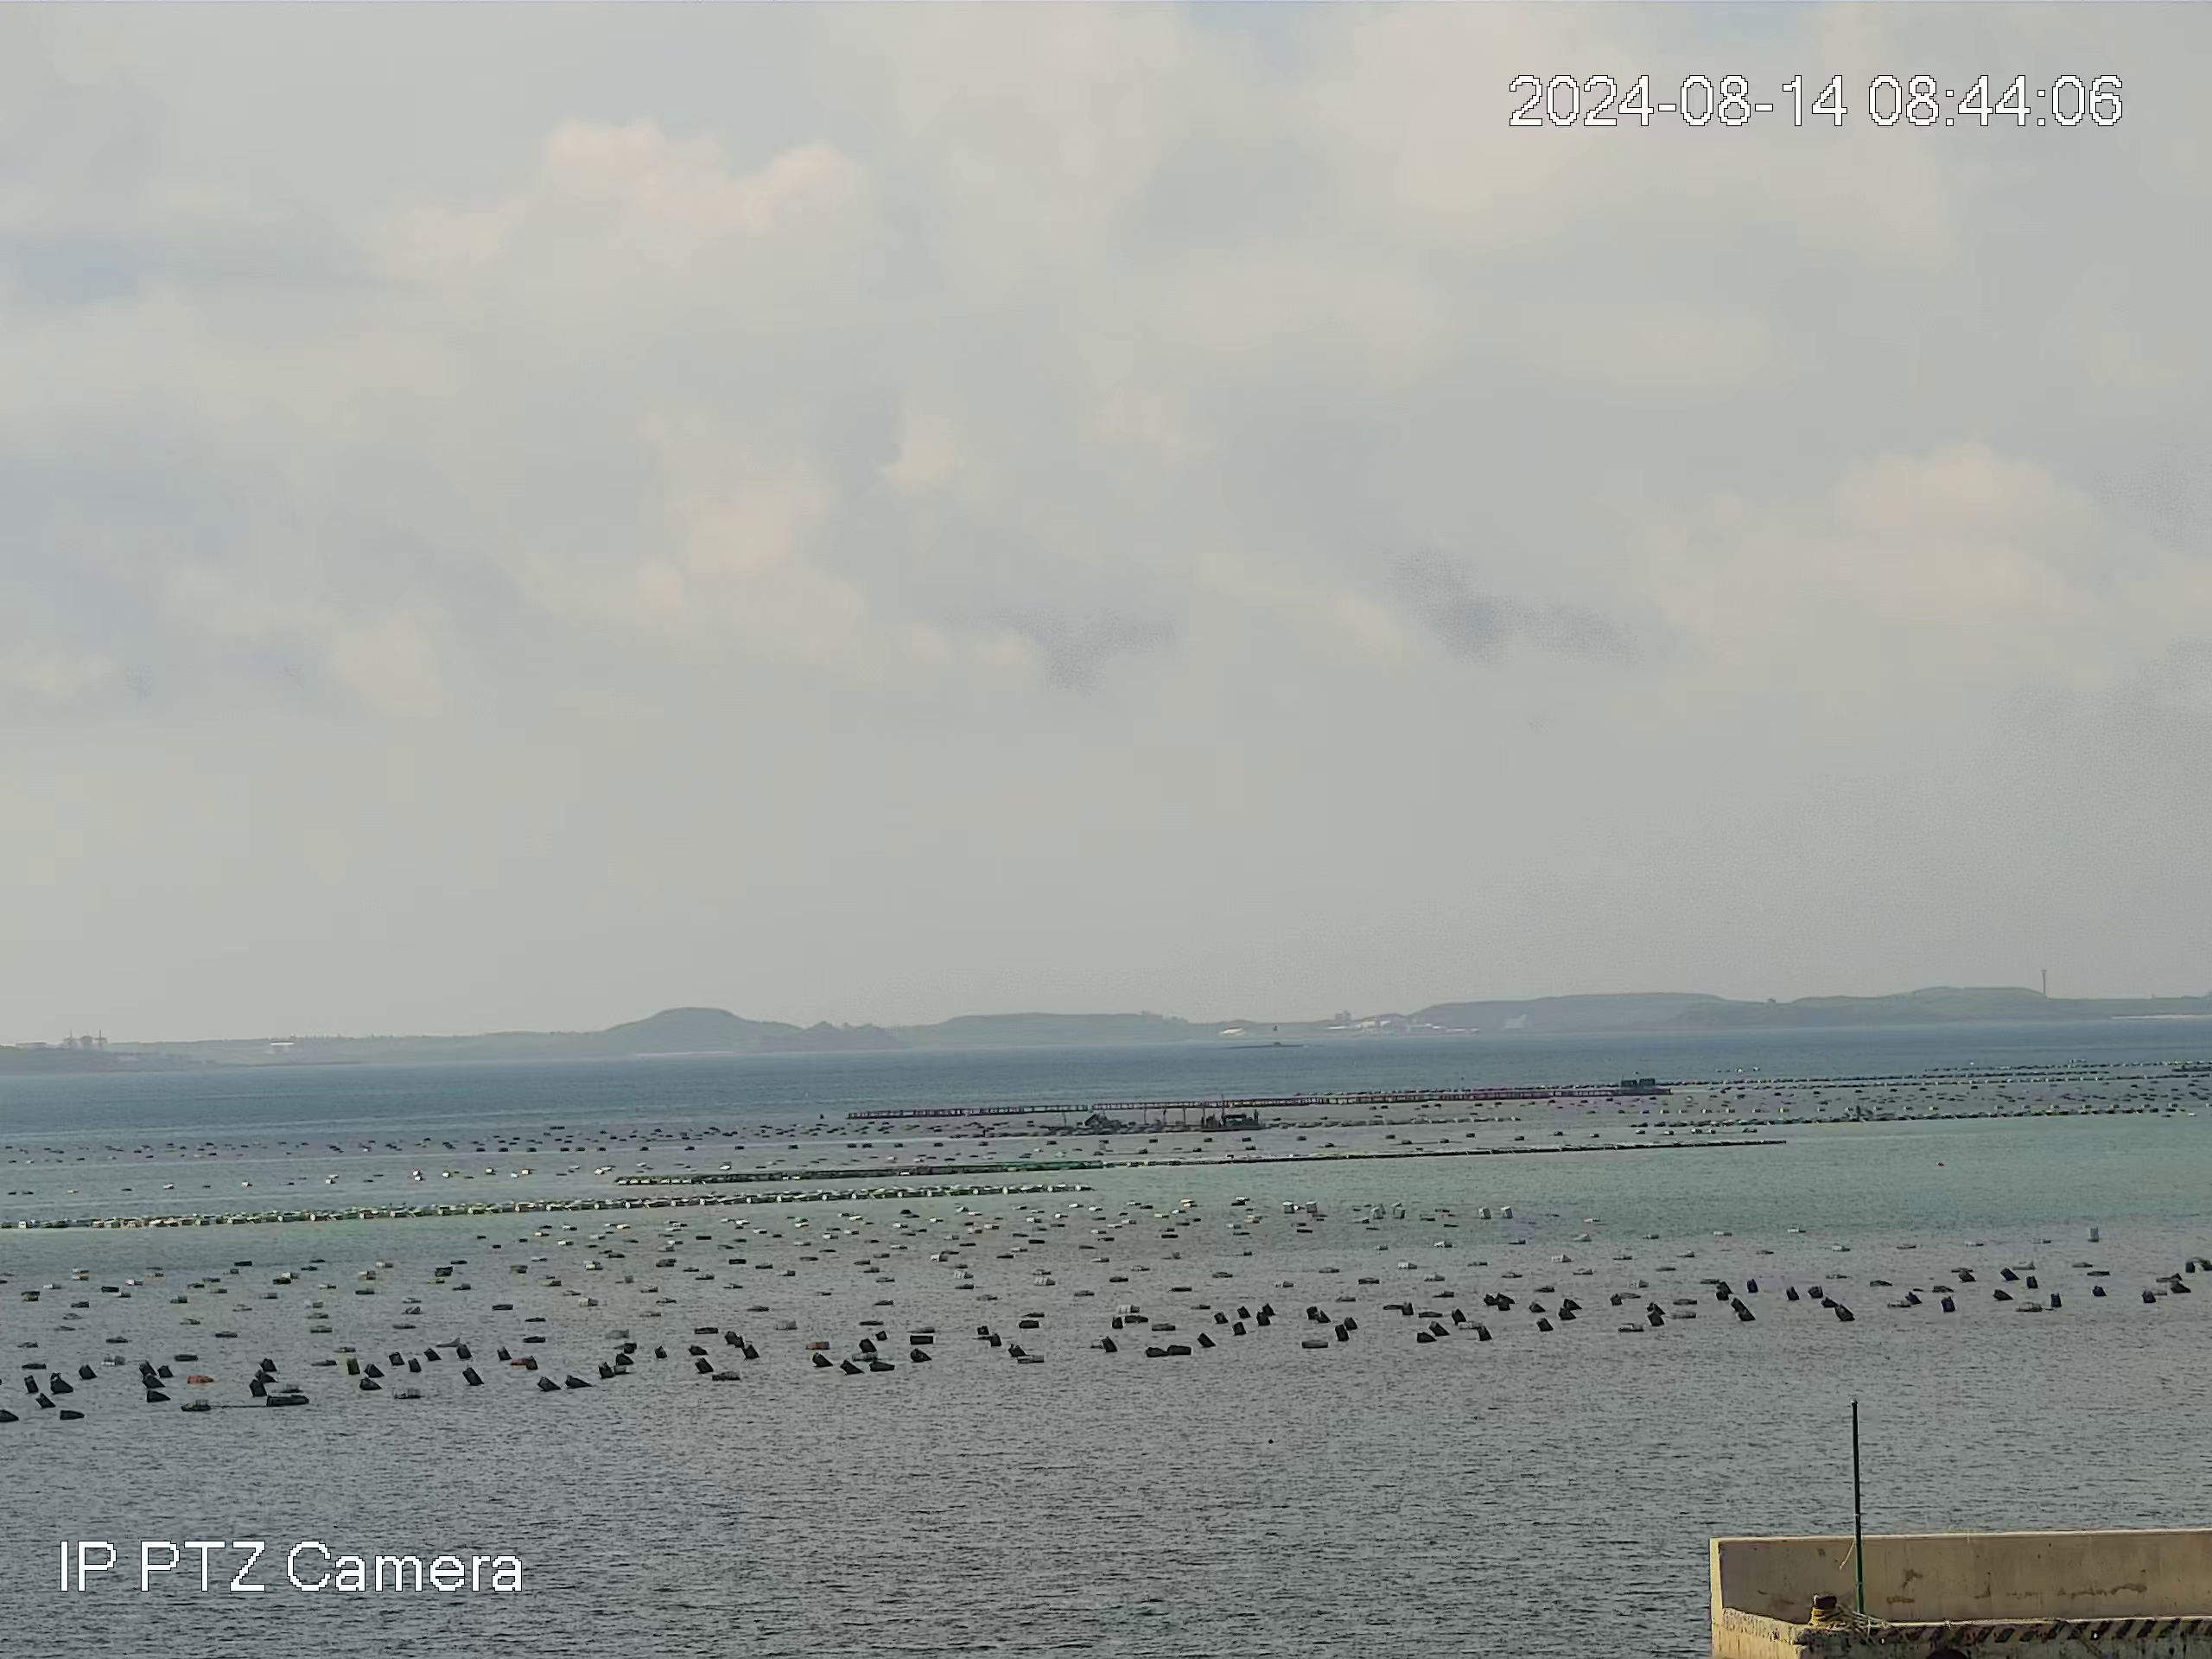boat: (1204, 1110, 1263, 1133)
